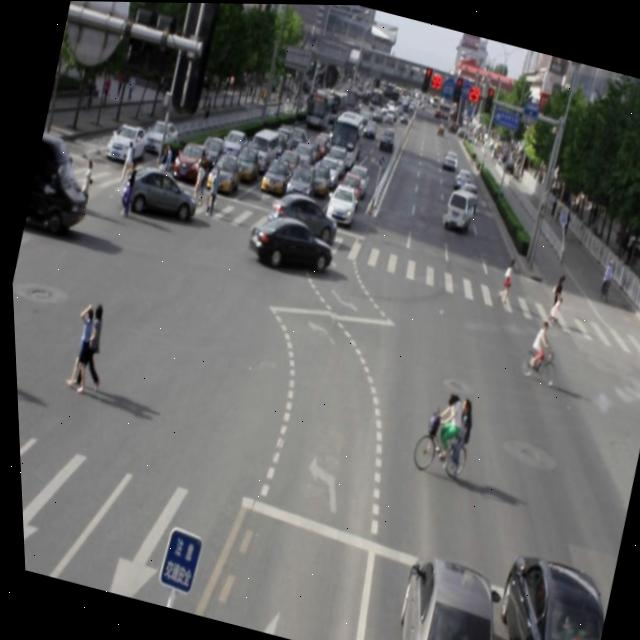car: (470, 545, 610, 640), (380, 544, 509, 640), (241, 206, 337, 279), (117, 159, 202, 224), (262, 184, 341, 243)
